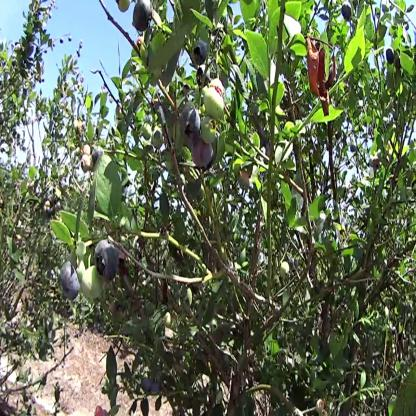intermediate: (82, 146, 92, 173), (240, 171, 250, 188), (318, 400, 328, 416)
mature: (95, 240, 119, 279), (181, 105, 202, 145), (61, 263, 80, 297), (193, 138, 215, 167), (133, 2, 153, 31), (195, 40, 208, 66), (93, 145, 104, 164), (343, 3, 352, 21), (387, 47, 395, 66)
young: (82, 267, 106, 302), (205, 86, 227, 120), (143, 123, 165, 149), (116, 1, 133, 13), (281, 262, 291, 280), (165, 312, 172, 329)
